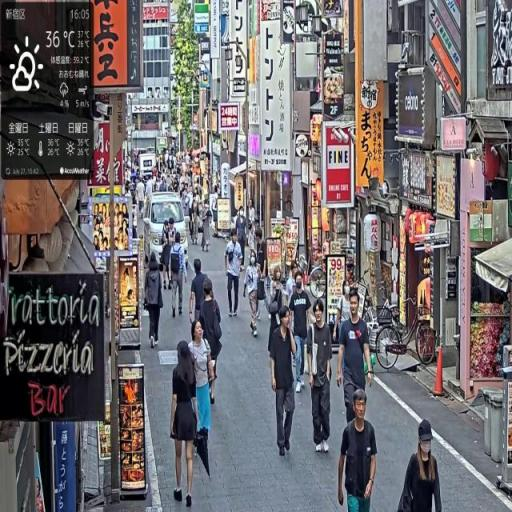person: (336, 290, 375, 428), (169, 337, 199, 512), (337, 388, 379, 512), (307, 301, 336, 455), (270, 305, 299, 458), (397, 419, 443, 512), (188, 319, 217, 458), (287, 273, 313, 395), (200, 278, 224, 404), (266, 267, 289, 381), (144, 255, 166, 352), (169, 235, 188, 321), (189, 259, 208, 343), (225, 229, 243, 317), (245, 256, 263, 339), (255, 228, 268, 319), (201, 199, 213, 253)
